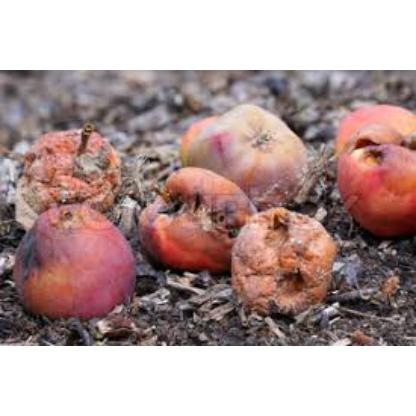damaged_apple: (12, 210, 130, 318), (179, 108, 304, 202), (140, 172, 254, 270), (233, 211, 337, 307), (17, 130, 125, 210), (334, 106, 411, 211)
